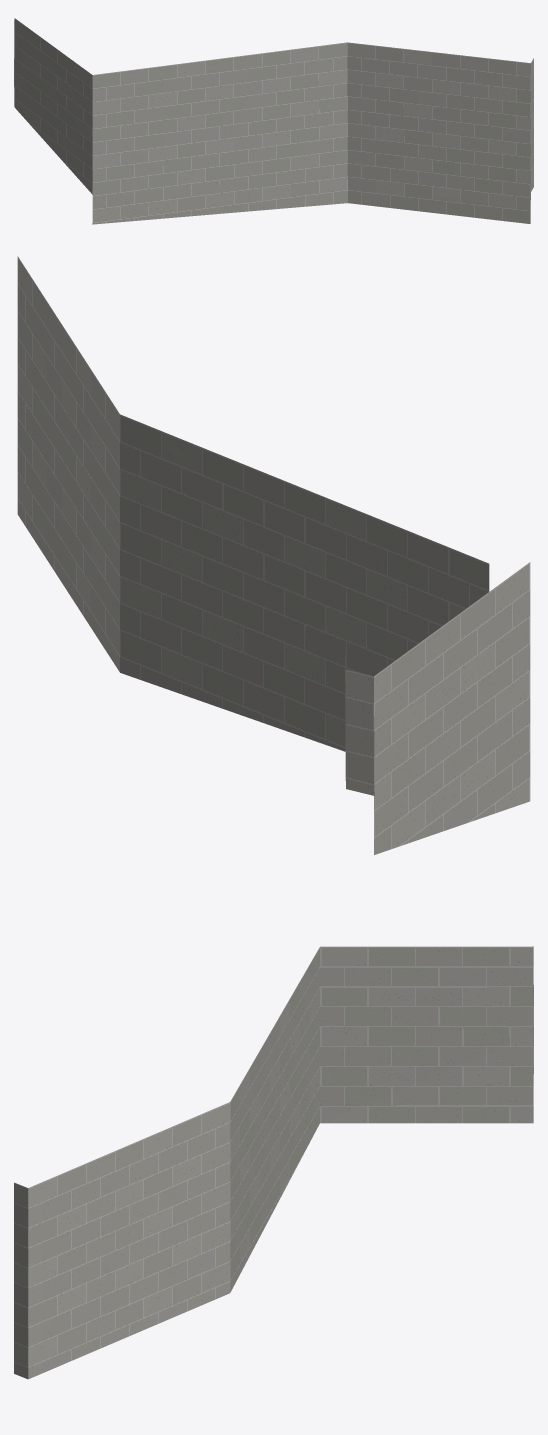
Rendered from kd_stage_135ebf_0_56_bounded.glb.
The picture shows the model from 3 angles, top to bottom: view 1: azimuth 30°, elevation 25°; view 2: azimuth 150°, elevation 25°; view 3: azimuth 270°, elevation 25°; orthographic projection. The views are drawn at different scales.
Visible parts, largest first — view 1: kd_stage_135ebf_0_56_bounded; view 2: kd_stage_135ebf_0_56_bounded; view 3: kd_stage_135ebf_0_56_bounded.
Part boxes in pixels (x1,y1,x2,y2): kd_stage_135ebf_0_56_bounded: (14,18,533,224); kd_stage_135ebf_0_56_bounded: (17,256,530,854); kd_stage_135ebf_0_56_bounded: (14,946,533,1379).
Bounding box in the file's own units: 3.68 × 1.62 × 3.2.
Materials: 1 (1 with a texture image).
